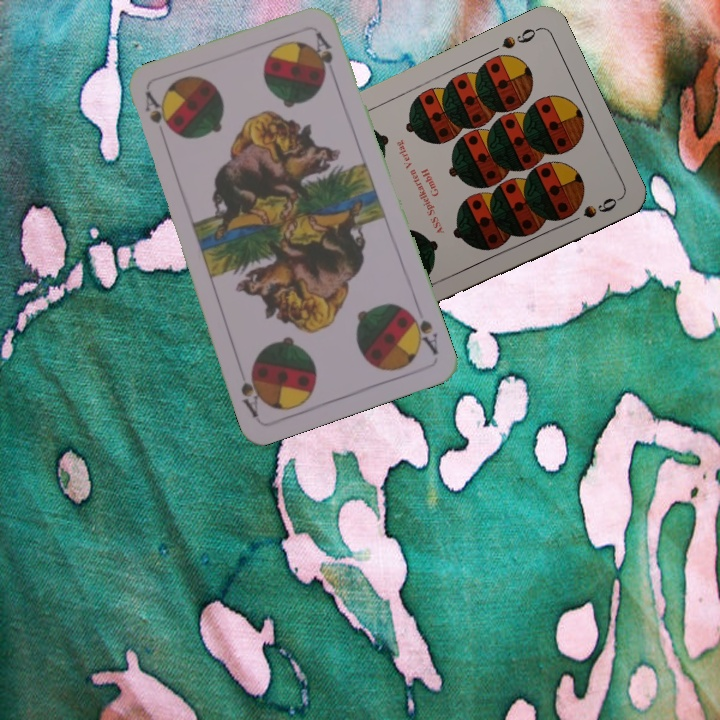S9: (497, 23, 542, 52)
SA: (403, 305, 441, 357), (141, 88, 171, 131)
